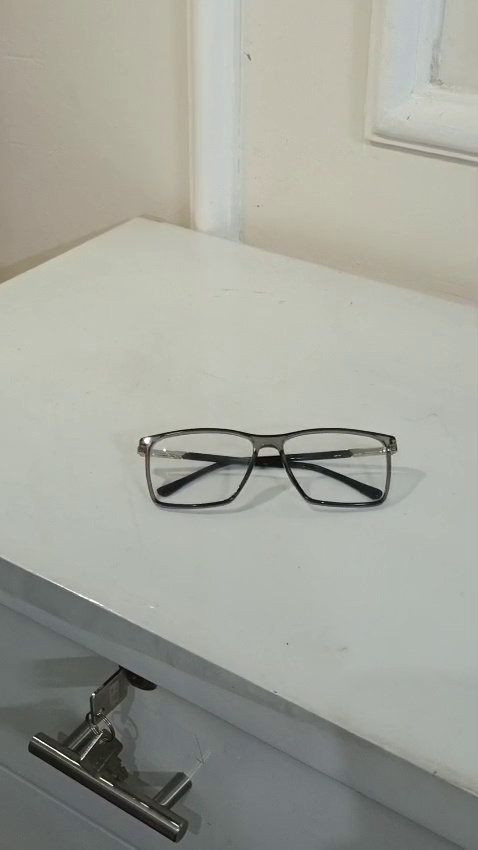glasses: (105, 427, 420, 516)
